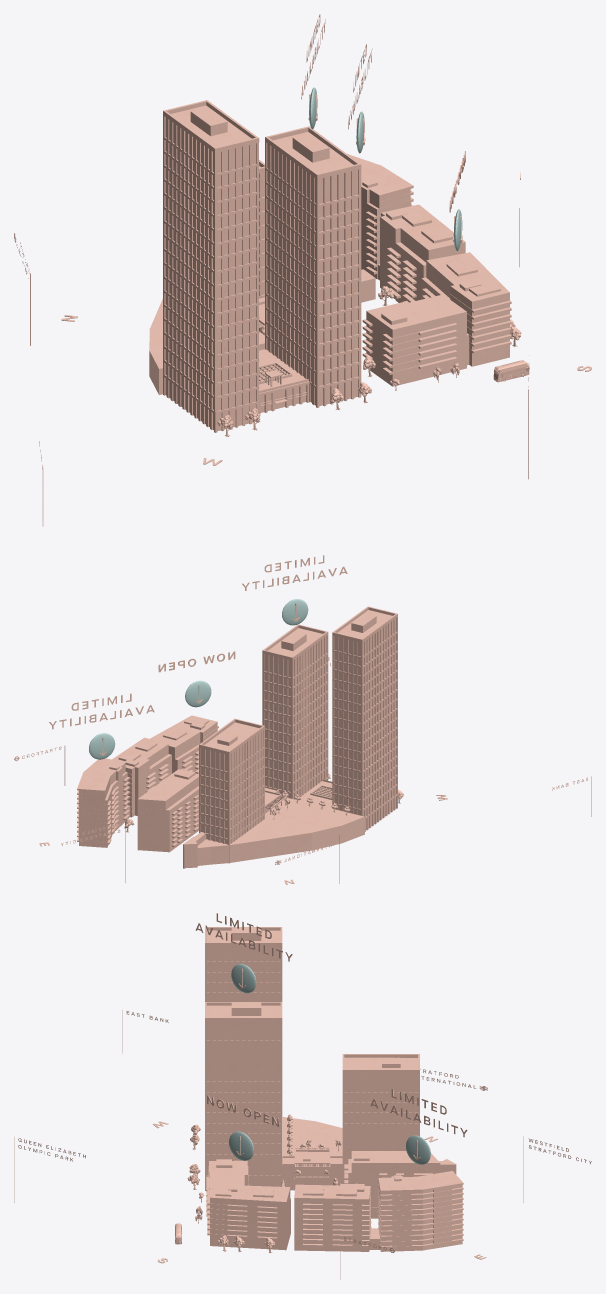
Rendered from CMS30.gltf.
The picture shows the model from 3 angles, top to bottom: view 1: azimuth 30°, elevation 25°; view 2: azimuth 150°, elevation 25°; view 3: azimuth 270°, elevation 25°; orthographic projection. The views are drawn at different scales.
Visible parts, largest first — view 1: Xavier, Bussell, Hows, Sandhu, Bulk, Harrison; view 2: Xavier, Bussell, Harrison, Bulk, Sandhu, Aarons, Hows, Open5, Open3, Arrow6, Arrow3, Arrow5; view 3: Bussell, Sandhu, Harrison, Hows, Bulk, Xavier, Aarons, Open5, Open3, Arrow3, Arrow5, Arrow6.
Part boxes in pixels (box(x1,y1,x2,y2)): Xavier: box(163, 100, 259, 432); Bussell: box(265, 126, 361, 407); Hows: box(362, 252, 511, 386); Sandhu: box(347, 154, 465, 302); Bulk: box(30, 208, 591, 526); Harrison: box(259, 160, 264, 298); Xavier: box(332, 606, 397, 831); Bussell: box(262, 624, 328, 799); Harrison: box(183, 718, 264, 868); Bulk: box(39, 746, 591, 884); Sandhu: box(77, 737, 171, 847); Aarons: box(137, 769, 198, 852); Hows: box(150, 715, 218, 773); Open5: box(49, 693, 154, 729); Open3: box(242, 555, 347, 590); Arrow6: box(185, 680, 211, 707); Arrow3: box(282, 599, 308, 625); Arrow5: box(89, 733, 115, 759); Bussell: box(205, 1002, 282, 1190); Sandhu: box(294, 1171, 463, 1251); Harrison: box(342, 1054, 456, 1183); Hows: box(206, 1159, 290, 1250); Bulk: box(14, 1010, 523, 1279); Xavier: box(205, 927, 282, 1001); Aarons: box(344, 1151, 440, 1218); Open5: box(370, 1089, 467, 1137); Open3: box(195, 913, 292, 961); Arrow3: box(231, 964, 256, 993); Arrow5: box(406, 1135, 430, 1164); Arrow6: box(229, 1131, 253, 1160).
Size of the model in its own units: 308 by 156 by 313.
Materials: 3 (2 with a texture image).
